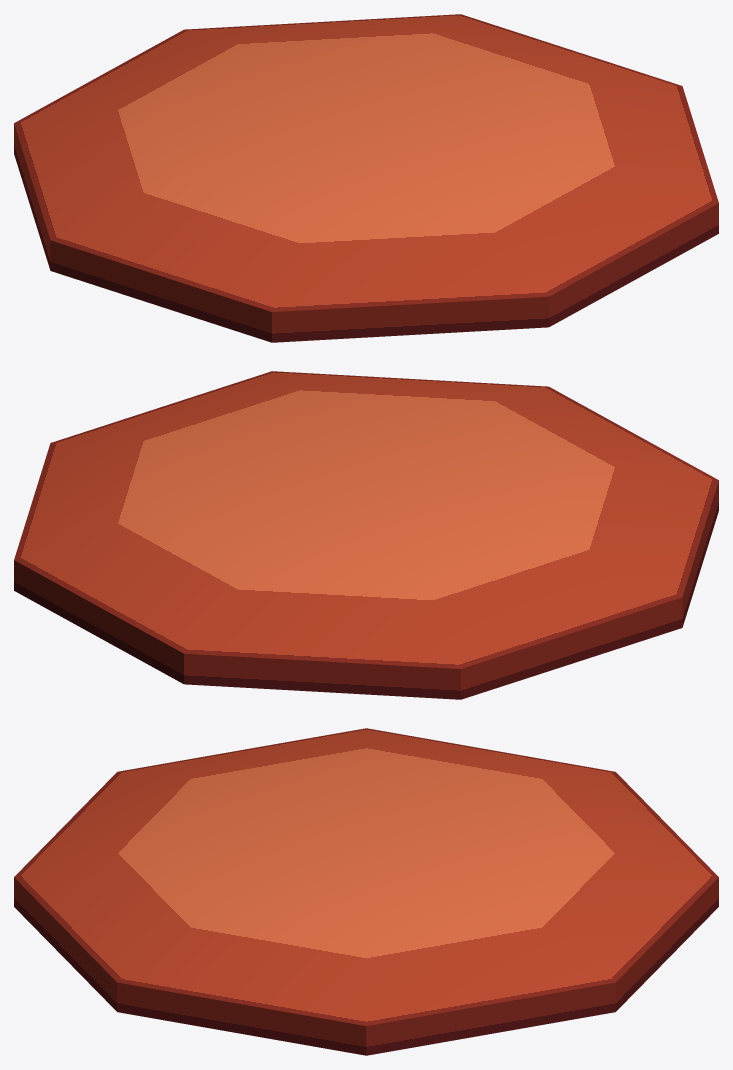
File: RoundButtonTop.glb
3 views of the same model, one above another, from view 1: azimuth 30°, elevation 25°; view 2: azimuth 150°, elevation 25°; view 3: azimuth 270°, elevation 25° (orthographic). The views are drawn at different scales.
Visible parts, largest first — view 1: RoundButtonTop; view 2: RoundButtonTop; view 3: RoundButtonTop.
Boxes of the visible parts, bbox=[...] form: RoundButtonTop: bbox=[14, 14, 718, 342]; RoundButtonTop: bbox=[14, 371, 718, 699]; RoundButtonTop: bbox=[14, 728, 718, 1055].
Size of the model in its own units: 1.07 by 0.103 by 1.07.
Materials: 1 (1 with a texture image).
